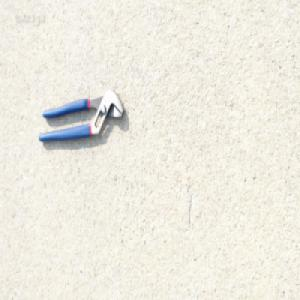Pliers: (36, 88, 124, 144)
